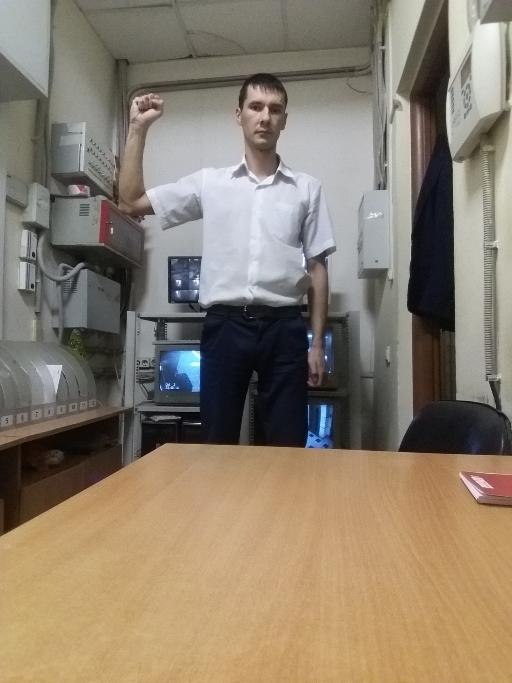fist: (128, 91, 164, 128)
no_gesture: (306, 344, 328, 389)
